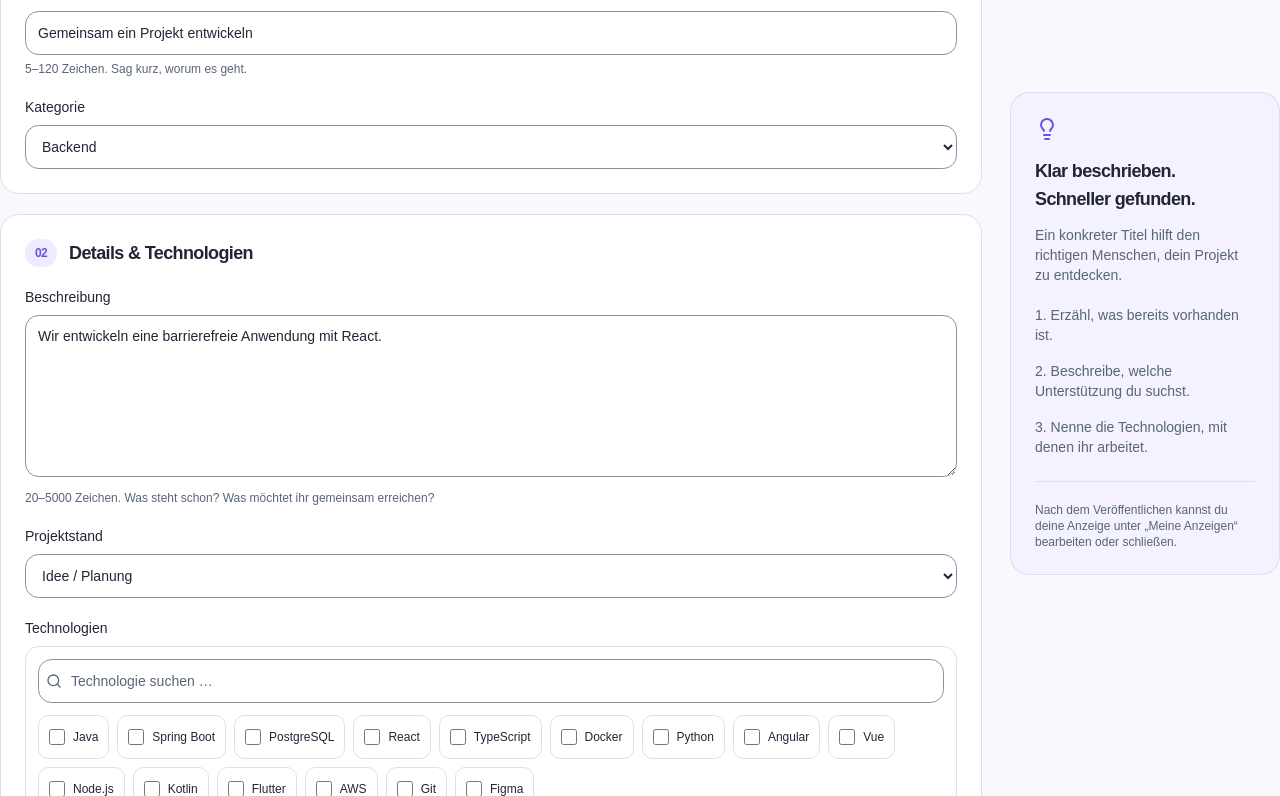
Test case: Arbeitsweisen: Formulare und Anzeige › öffnet Information per Hover, Tastaturfokus und Klick ohne die Auswahl zu ändern
Earlier steps of the test are not shown.
(page scrolled)
Click the checkbox labelled "Java". click: [57, 737]
box: [49,729,65,745]
(page scrolled)
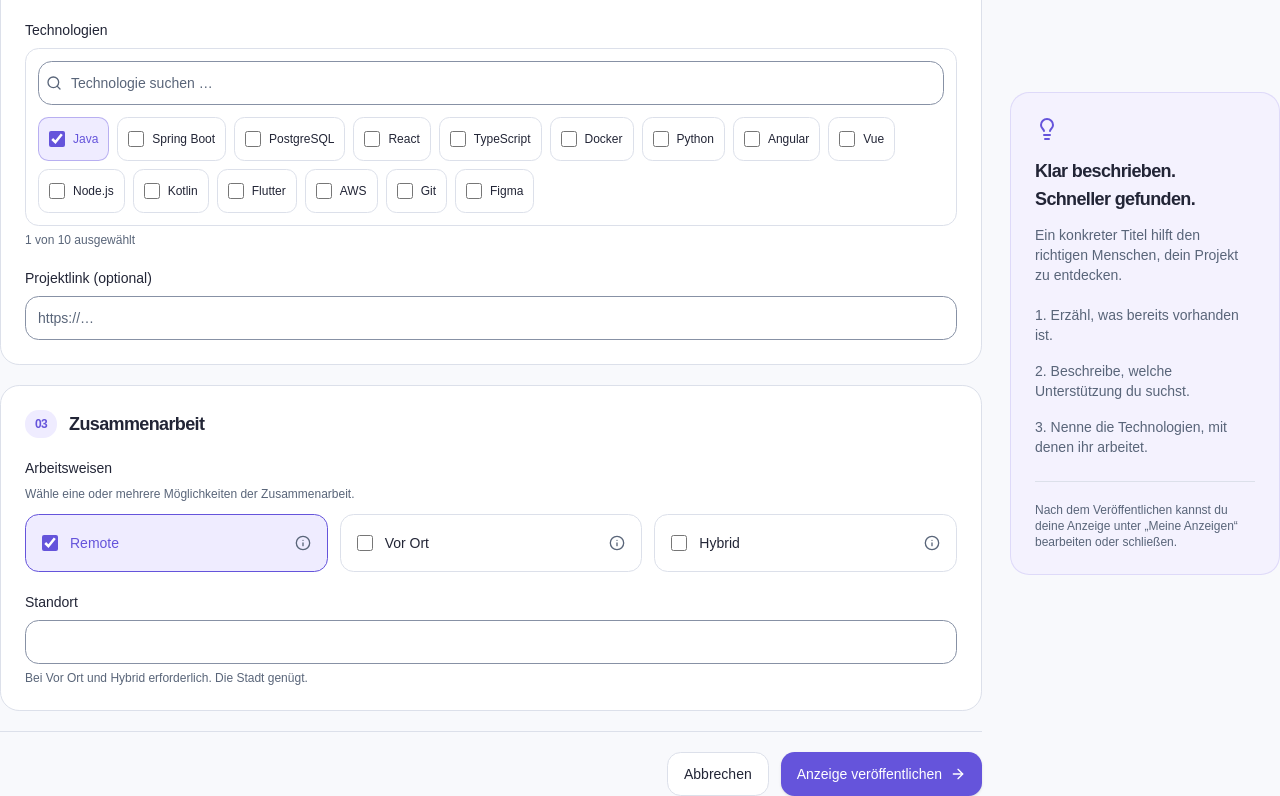
Hover over the button named "Information zu Remote" at [303, 543], box [287,527,319,559]
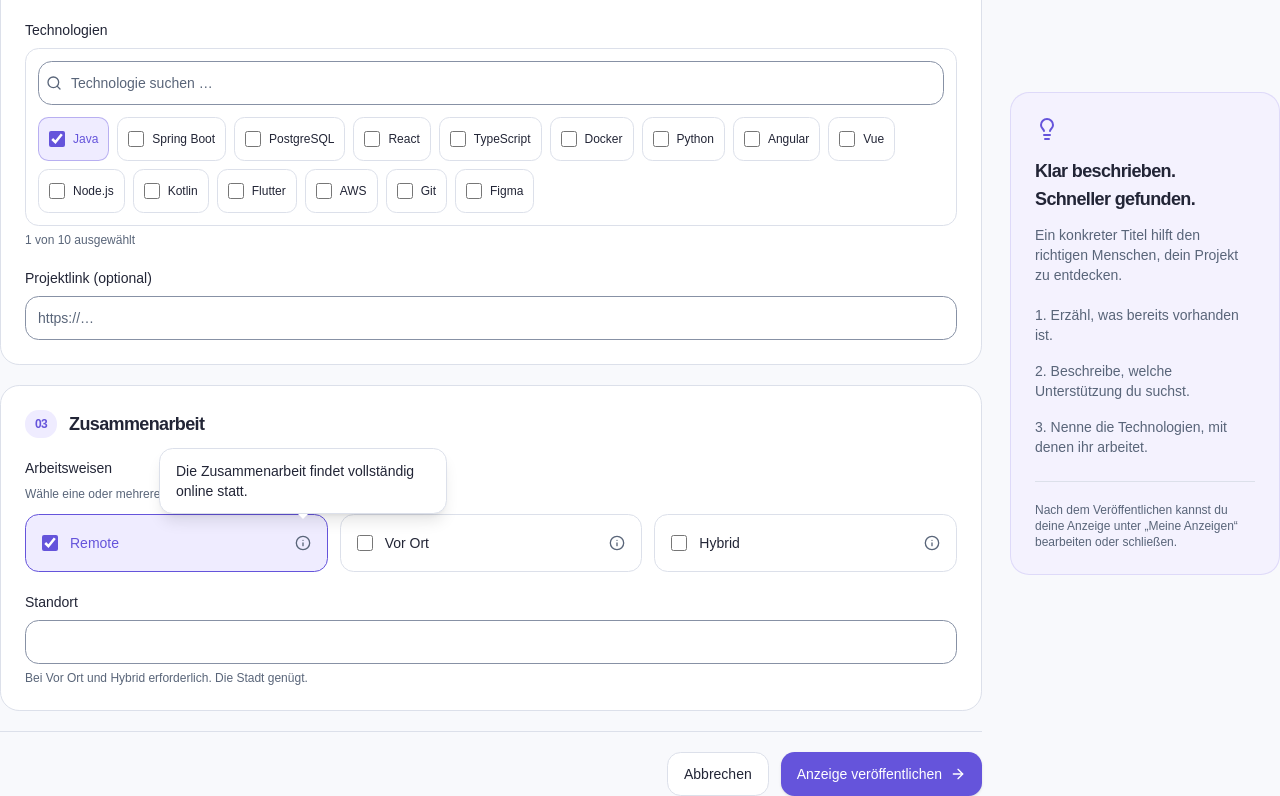
Check: the tooltip reads "Die Zusammenarbeit findet vollständig online statt.", box [176,463,414,499]
Move the pointer off the button named "Information zu Remote", box [287,527,319,559]
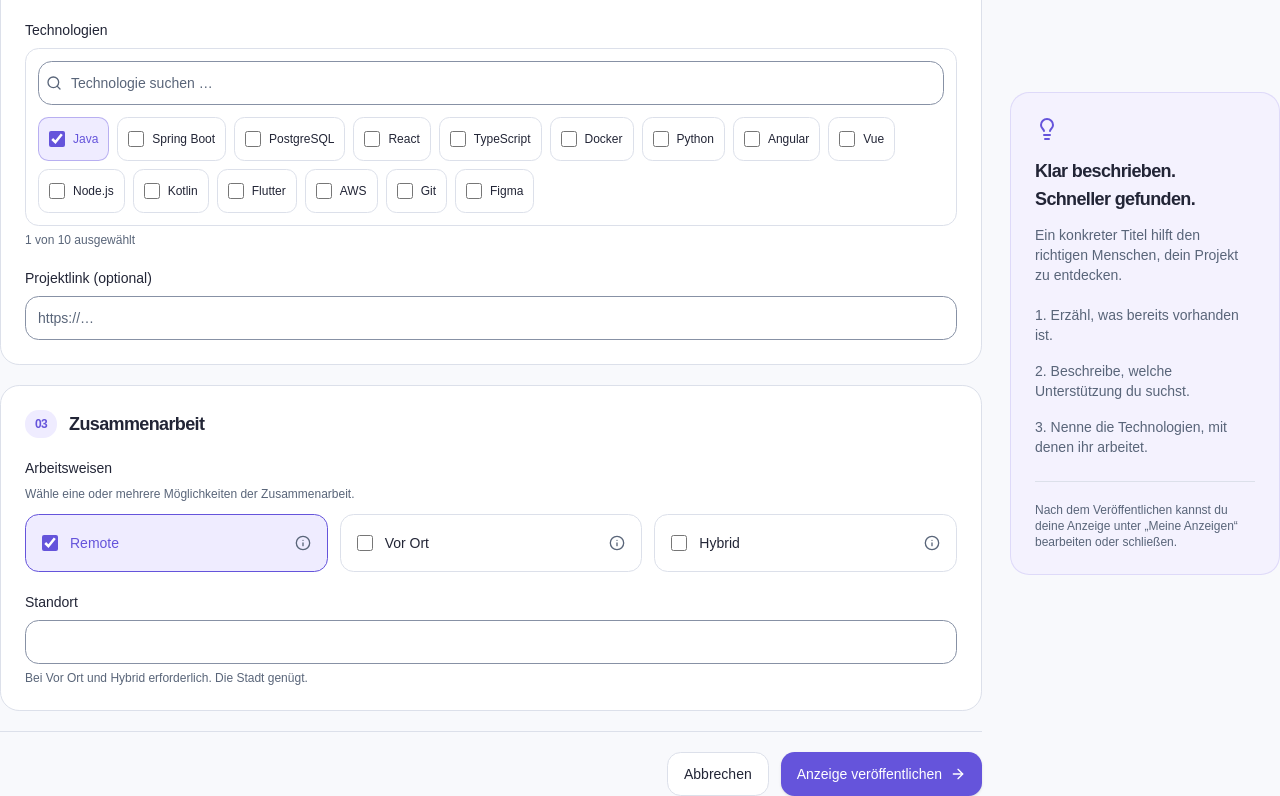
Press Escape
Check: the tooltip "Die Zusammenarbeit findet vollständig online statt." is not shown
Focus the button named "Information zu Remote". click: [303, 543]
box: [287,527,319,559]
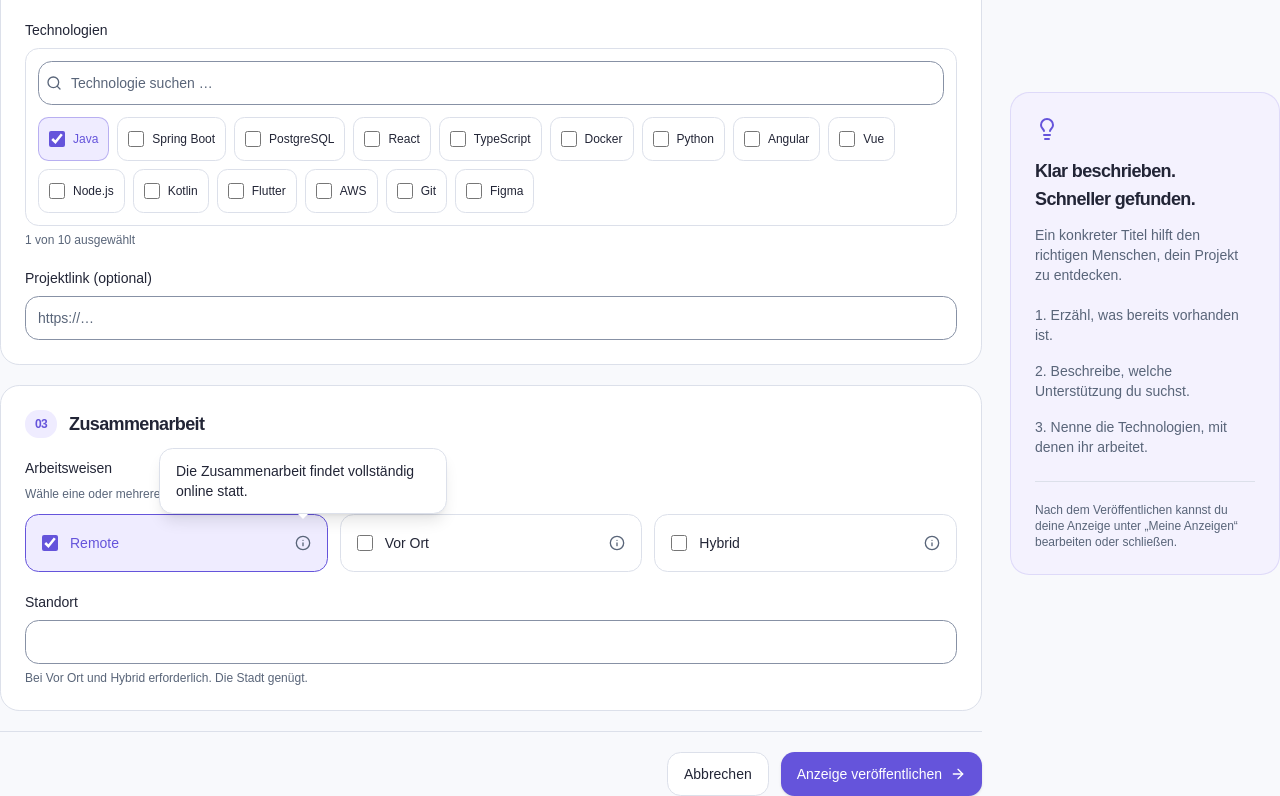
Check: the tooltip "Die Zusammenarbeit findet vollständig online statt." is shown, box [159,448,447,514]
Leave the button named "Information zu Remote", box [287,527,319,559]
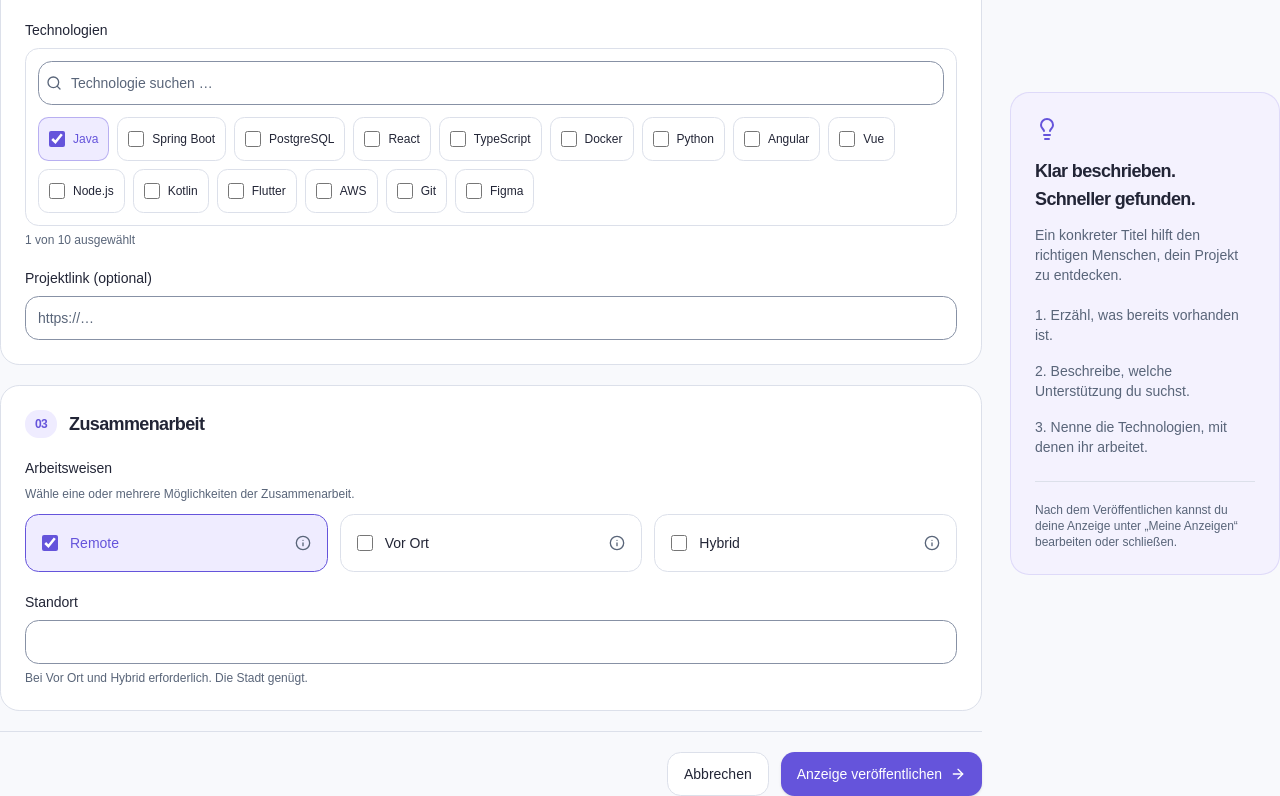
Press Escape
Click the button named "Information zu Remote". click: [303, 543]
box: [287,527,319,559]
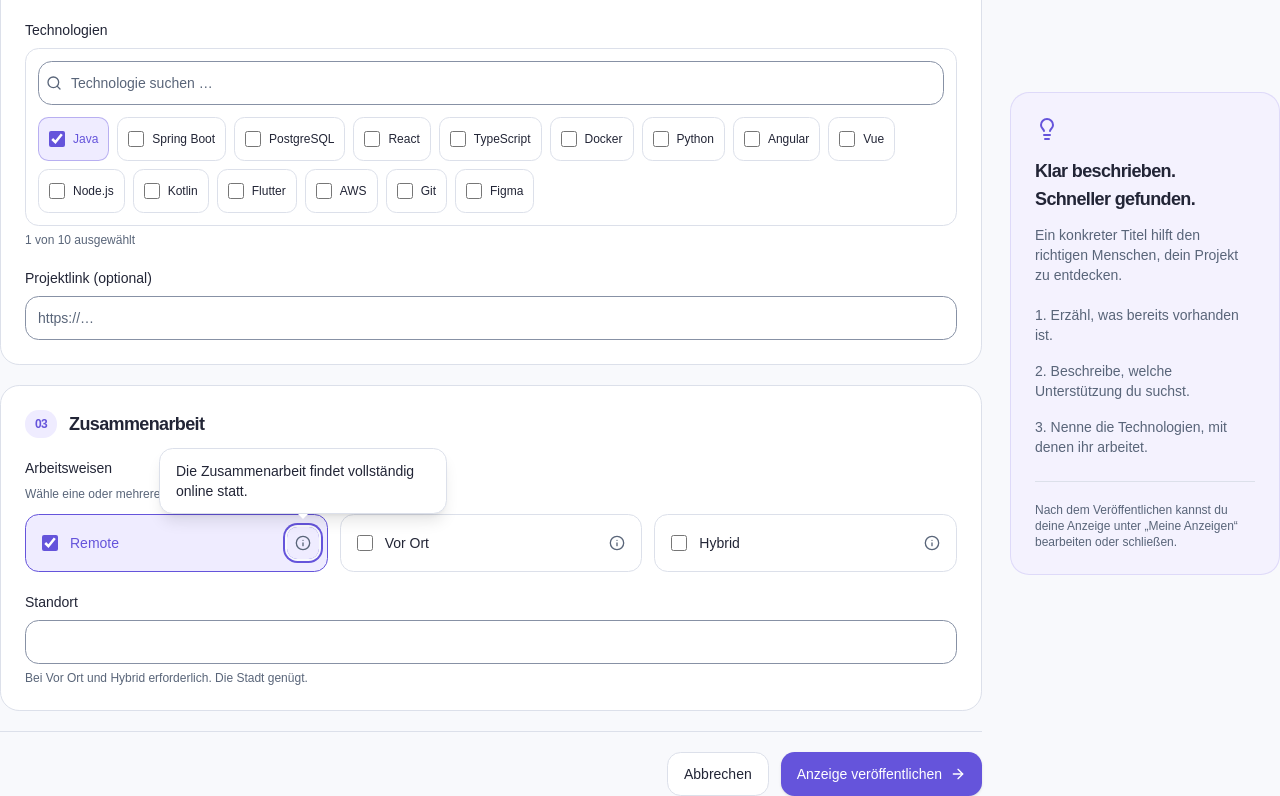
Check: the checkbox labelled "Remote" is checked, box [42,535,58,551]
Check: the tooltip "Die Zusammenarbeit findet vollständig online statt." is shown, box [159,448,447,514]
